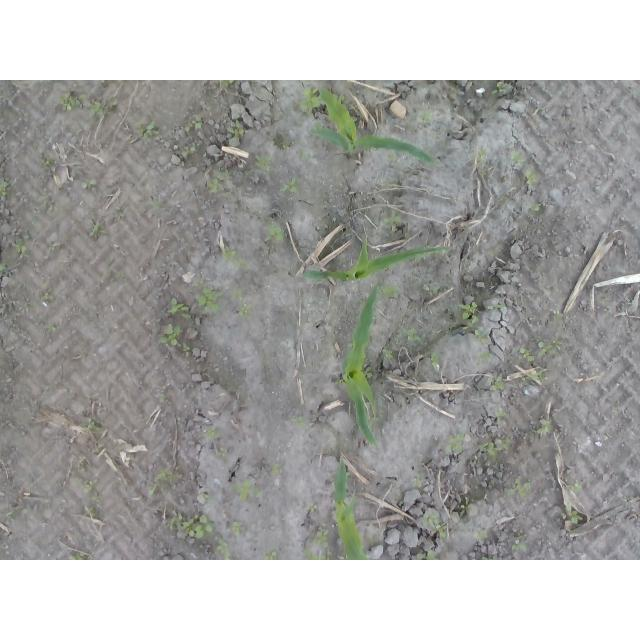Maize: (309, 88, 437, 169), (301, 235, 455, 284), (341, 284, 383, 447), (333, 459, 372, 560)
Weeds: (167, 510, 210, 538), (69, 476, 101, 505), (150, 468, 182, 497), (198, 285, 223, 311), (476, 437, 508, 456), (233, 481, 259, 504), (87, 100, 117, 119), (505, 478, 531, 499), (159, 323, 182, 346), (426, 516, 449, 538), (317, 526, 332, 558), (61, 94, 86, 113), (169, 298, 192, 318), (224, 248, 247, 268), (135, 121, 159, 140), (264, 223, 285, 242), (447, 434, 465, 456), (461, 302, 480, 322), (536, 341, 560, 356), (386, 209, 402, 231), (520, 347, 537, 365), (256, 151, 273, 169), (491, 373, 505, 394), (535, 419, 551, 437), (280, 178, 298, 194), (413, 549, 439, 560), (184, 116, 200, 133), (229, 121, 244, 139), (217, 541, 231, 560), (418, 108, 434, 124), (209, 177, 223, 195), (14, 237, 28, 255), (92, 220, 105, 239), (474, 329, 489, 345), (87, 422, 105, 435), (229, 523, 244, 538), (570, 510, 583, 527), (432, 351, 443, 371), (237, 303, 251, 318), (493, 82, 507, 96), (306, 545, 320, 559), (474, 149, 487, 164), (83, 179, 98, 191), (405, 329, 420, 341), (513, 151, 526, 164), (527, 170, 538, 184), (69, 552, 88, 560), (1, 181, 11, 196), (205, 428, 216, 441), (42, 291, 55, 302), (271, 465, 281, 479), (233, 289, 243, 303), (289, 417, 303, 426), (265, 553, 279, 560), (383, 349, 393, 358), (573, 484, 583, 493), (532, 204, 543, 212), (536, 371, 544, 380), (306, 505, 318, 511), (219, 82, 232, 87)
